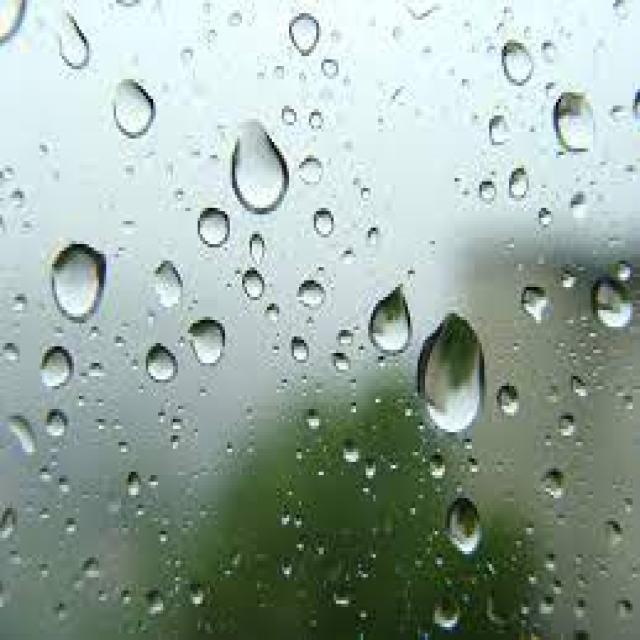raindrop: (414, 304, 496, 438), (42, 231, 117, 323), (224, 122, 294, 216), (546, 75, 606, 162), (362, 277, 415, 362), (109, 74, 164, 150), (586, 265, 639, 343), (38, 5, 96, 74), (444, 490, 488, 560), (183, 308, 230, 372), (508, 277, 560, 334), (146, 254, 190, 319), (190, 196, 234, 258), (502, 36, 543, 94), (530, 462, 574, 516), (422, 586, 468, 637), (486, 370, 524, 430), (34, 340, 76, 394), (500, 160, 542, 214), (288, 5, 327, 62), (230, 260, 272, 311), (134, 338, 182, 382), (290, 272, 332, 318), (482, 104, 516, 158), (546, 404, 584, 452), (564, 364, 608, 404), (298, 206, 342, 246), (283, 334, 317, 366)
